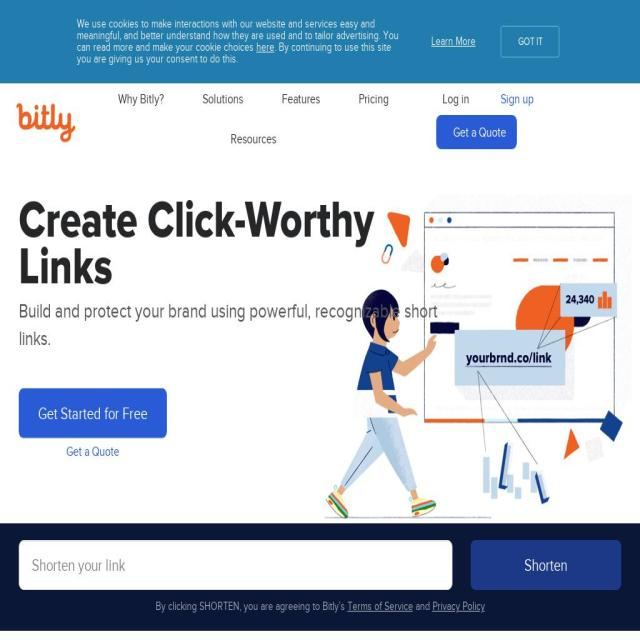button: (19, 388, 167, 438), (102, 83, 174, 116), (214, 123, 287, 155), (186, 83, 254, 116), (482, 83, 547, 116), (266, 83, 330, 116), (423, 83, 482, 116), (342, 83, 400, 116), (66, 442, 120, 461), (14, 114, 77, 130), (431, 32, 476, 51), (447, 125, 507, 139)
field: (19, 540, 453, 590), (471, 540, 621, 590)
heading: (19, 197, 461, 291), (19, 296, 461, 352)
image: (14, 100, 77, 146)
link: (347, 600, 413, 612), (432, 600, 485, 612)
text: (77, 17, 399, 54), (77, 41, 391, 65), (155, 600, 347, 612), (500, 26, 560, 57), (447, 124, 507, 140), (112, 91, 164, 108), (224, 131, 277, 147), (196, 91, 244, 108), (276, 91, 320, 108), (494, 91, 534, 108), (352, 91, 390, 108), (436, 91, 470, 108), (431, 35, 476, 47), (412, 600, 432, 612), (256, 41, 274, 53)
